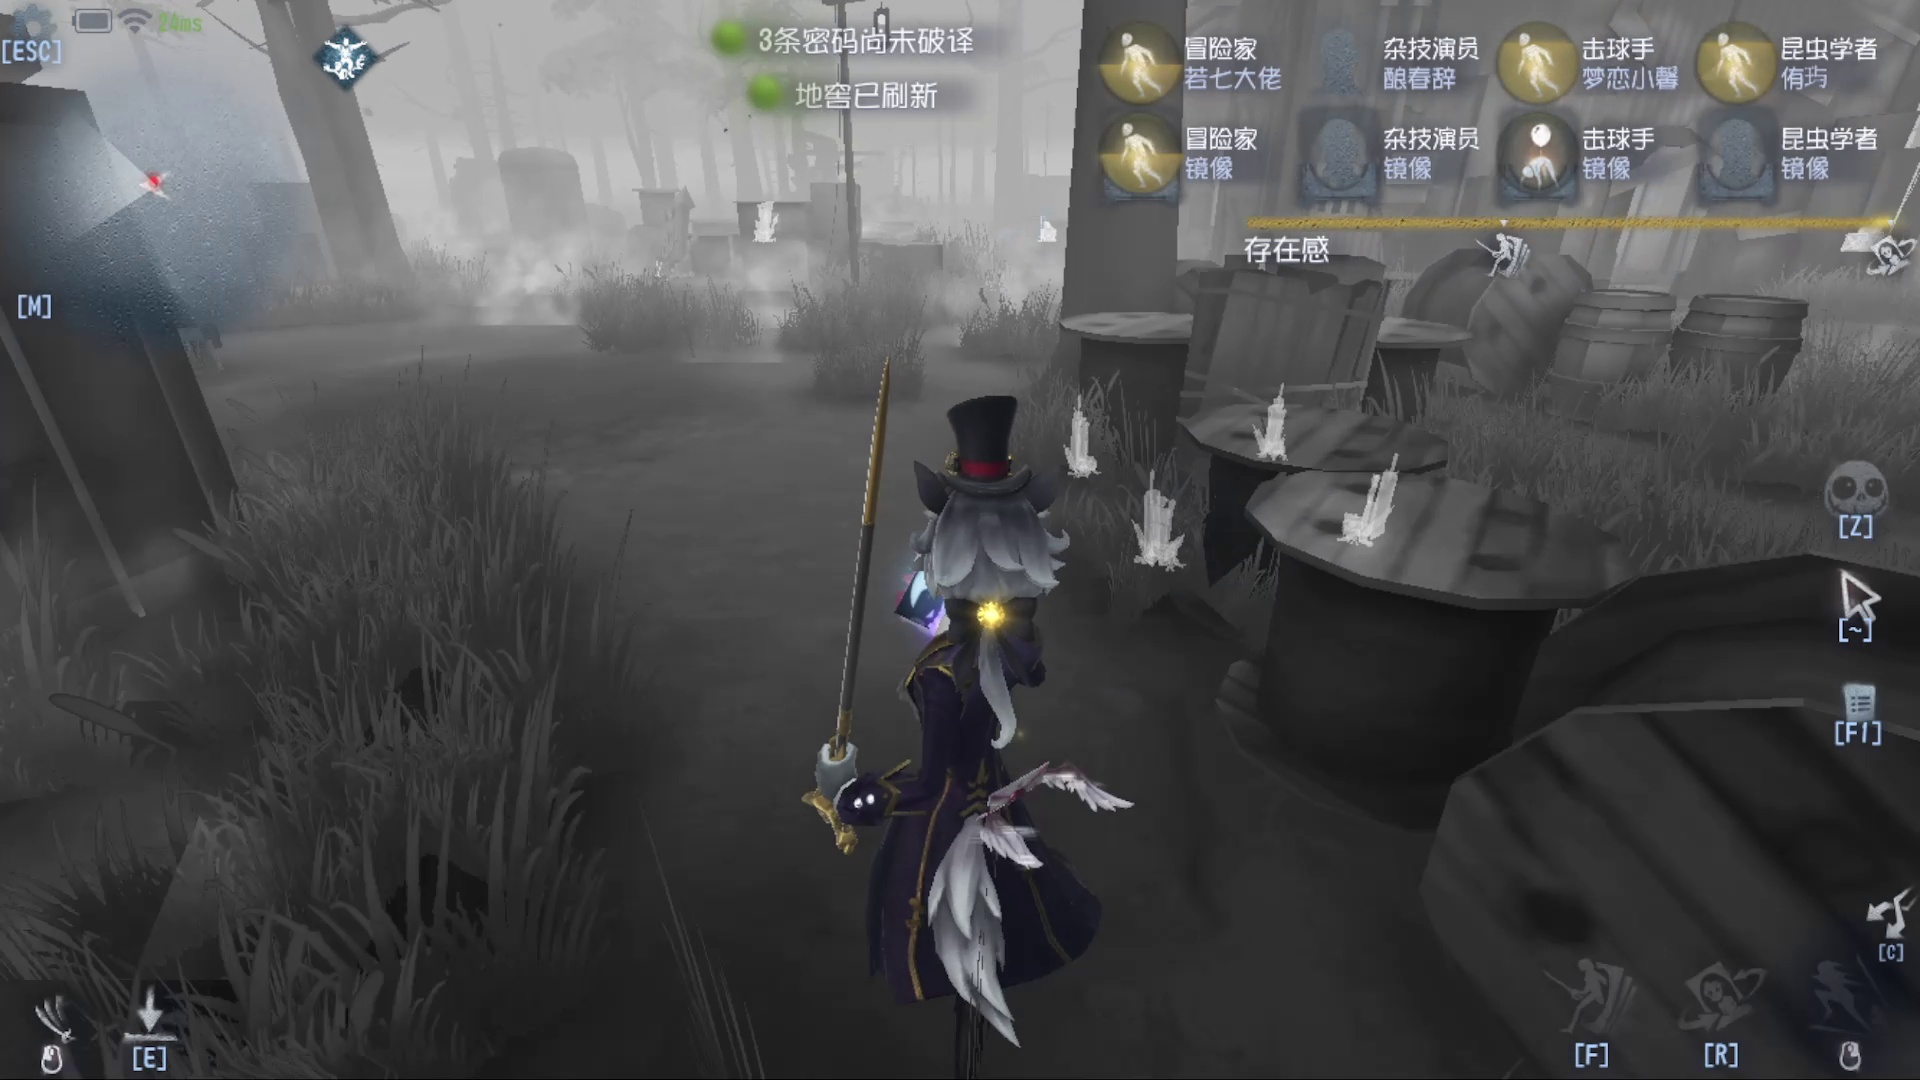木板: (1174, 235, 1390, 436), (750, 185, 785, 262)
狂欢之椅: (1051, 381, 1093, 492)
